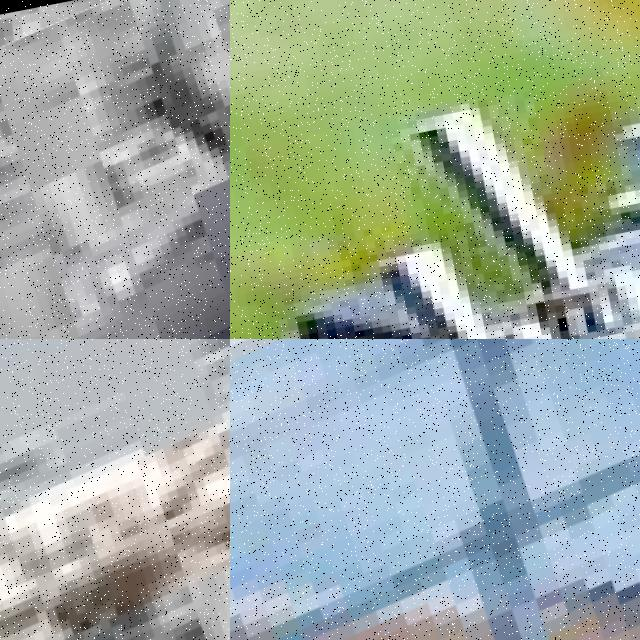drone: (230, 339, 640, 640), (0, 0, 230, 339), (0, 339, 230, 640)
